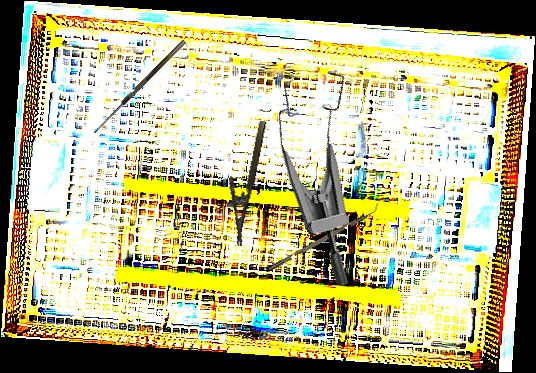Chopper: (264, 201, 383, 272)
Hook Surgical: (92, 39, 191, 139)
Needle Holder: (216, 116, 268, 247)
Speculum: (235, 48, 431, 289)
